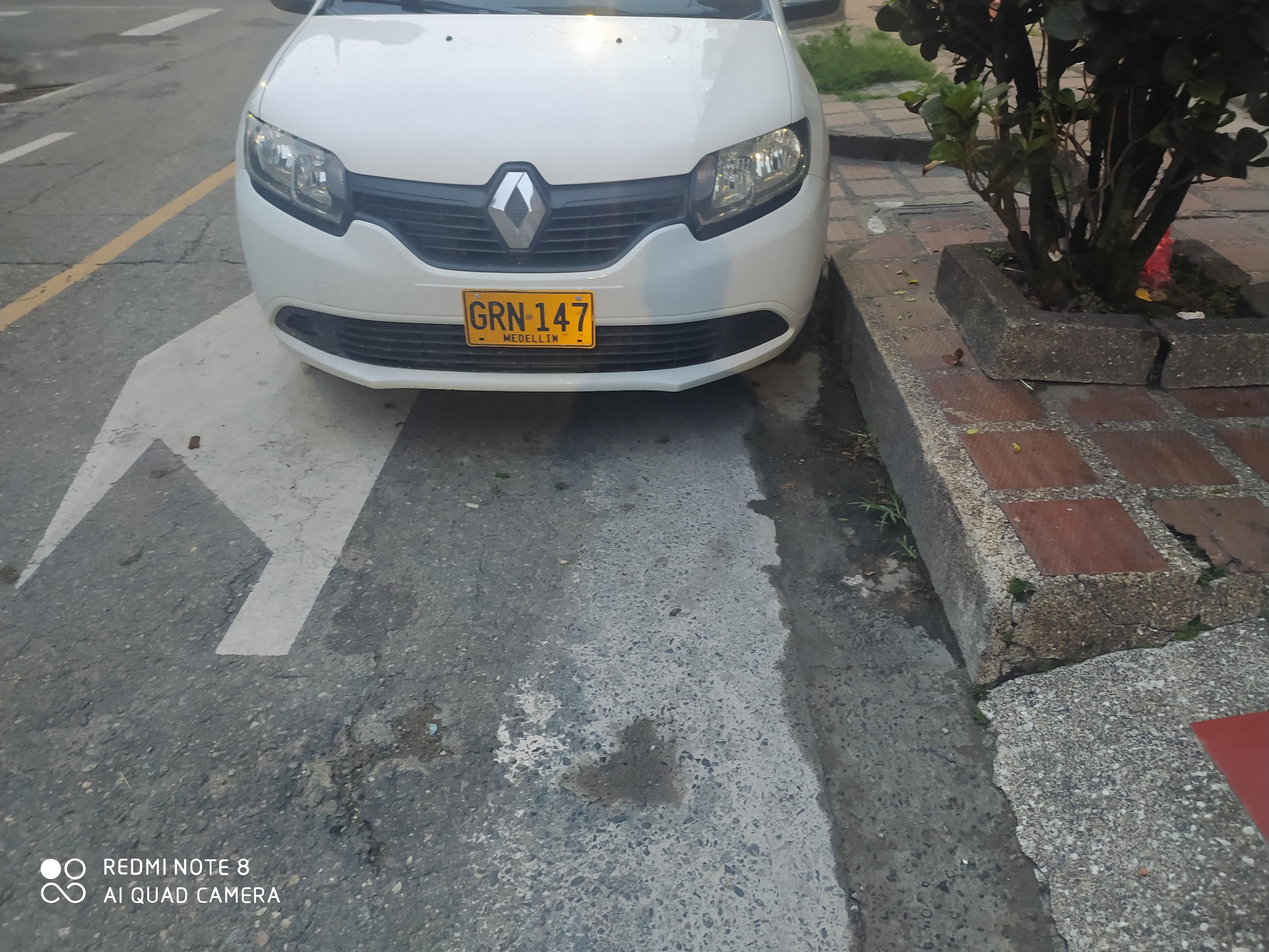placa: (454, 283, 600, 353)
